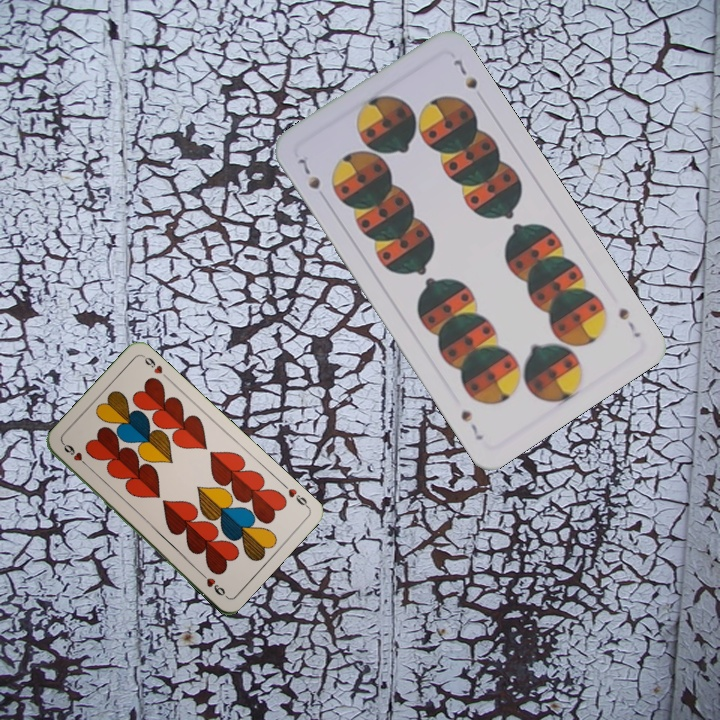H9: (59, 439, 92, 470), (278, 479, 311, 510)
S7: (614, 304, 644, 341), (295, 154, 323, 192)
